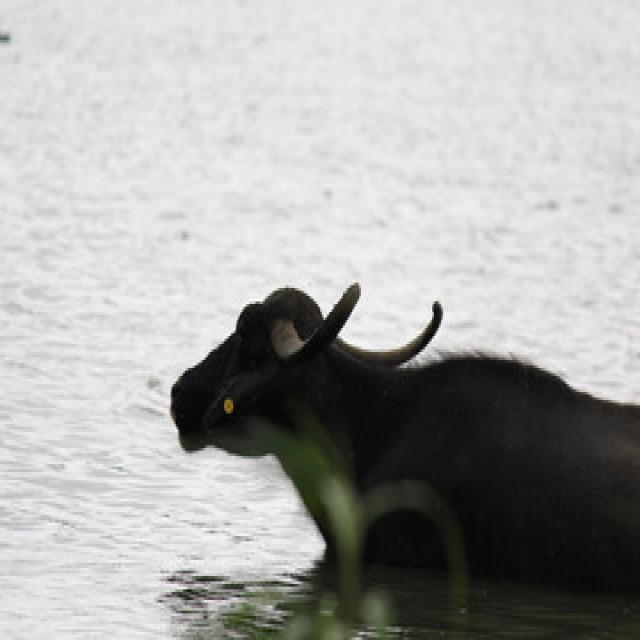Buffalo: (167, 277, 638, 600)
